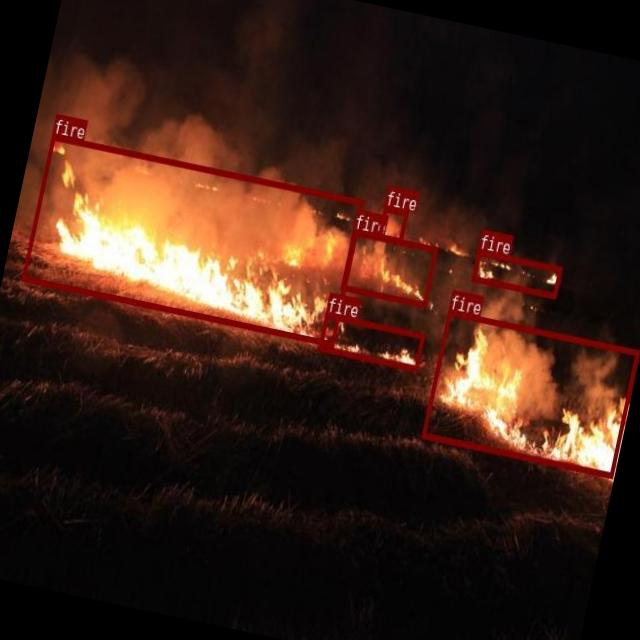fire: (21, 133, 363, 346), (421, 309, 639, 477), (339, 228, 438, 306), (317, 312, 424, 370), (469, 248, 562, 297), (378, 205, 408, 242)
